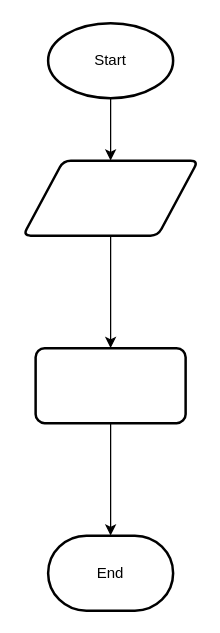
Some shapes in this 220 by 633 pixel diagram are drawn without their labels. The box of each missing label's shape, as (x1, y1, x2, y2) in pixels:
get stack number: (21, 159, 199, 236)
push number: (34, 346, 186, 424)
